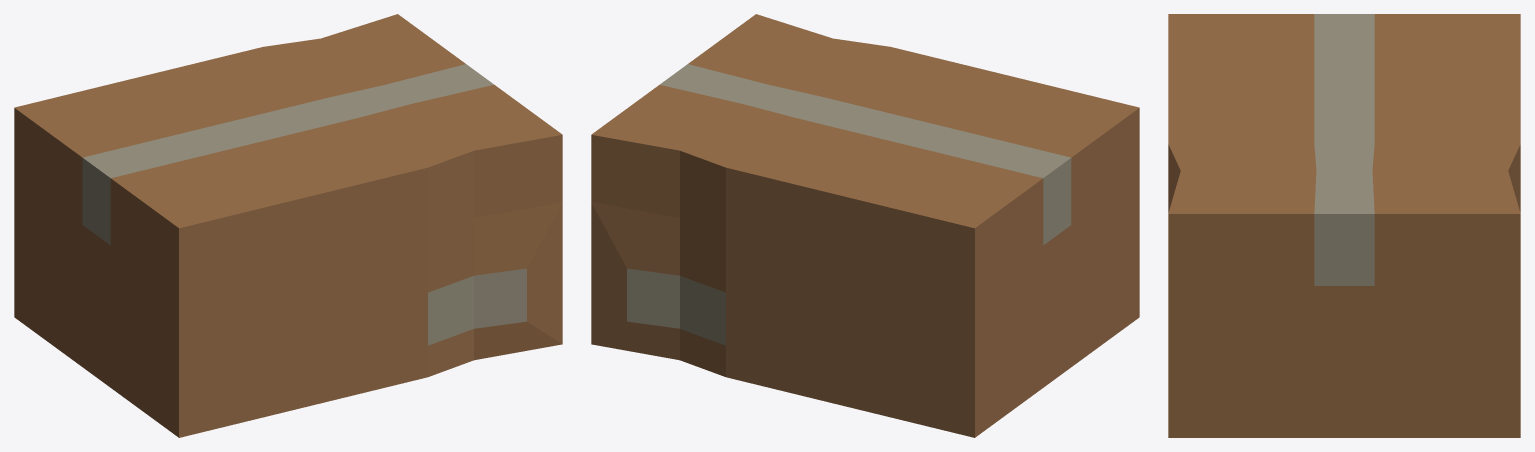
Rendered from boxes2.glb.
3 views of the same model, side by side, from view 1: azimuth 30°, elevation 25°; view 2: azimuth 150°, elevation 25°; view 3: azimuth 270°, elevation 25° (orthographic). The views are drawn at different scales.
Visible parts, largest first — view 1: CardboardBoxes_1; view 2: CardboardBoxes_1; view 3: CardboardBoxes_1.
Part boxes in pixels (<box>): CardboardBoxes_1: <box>14,14,562,437</box>; CardboardBoxes_1: <box>591,14,1139,437</box>; CardboardBoxes_1: <box>1168,14,1520,437</box>.
Bounding box in the file's own units: 0.9755 × 0.5094 × 0.7265.
